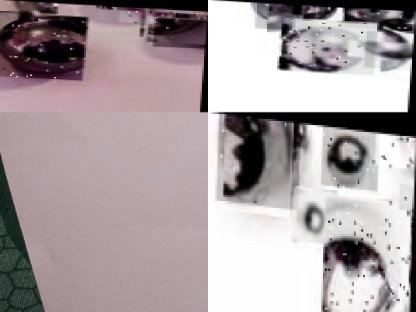ironball: (216, 113, 300, 208), (0, 12, 89, 79), (281, 16, 378, 73), (323, 234, 392, 309), (321, 131, 371, 187), (153, 10, 207, 46), (365, 28, 414, 67), (255, 2, 316, 29), (343, 6, 415, 28), (118, 5, 171, 23), (301, 199, 328, 233), (8, 0, 49, 17)
